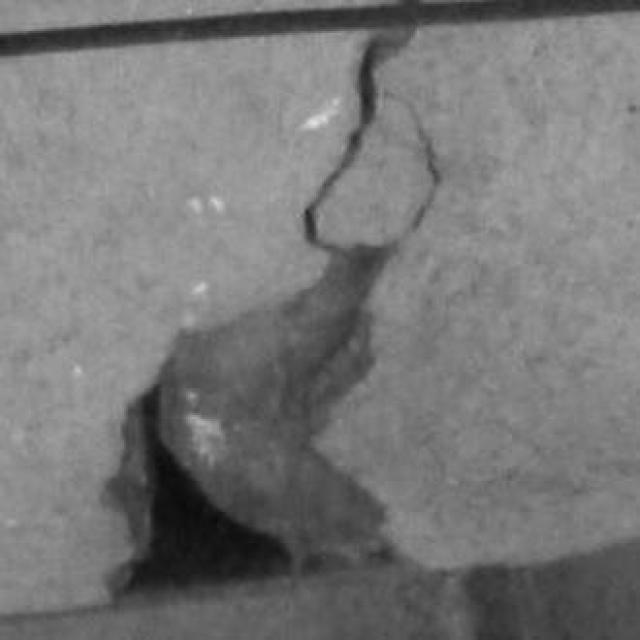crack: (109, 32, 440, 589), (303, 28, 415, 254)
